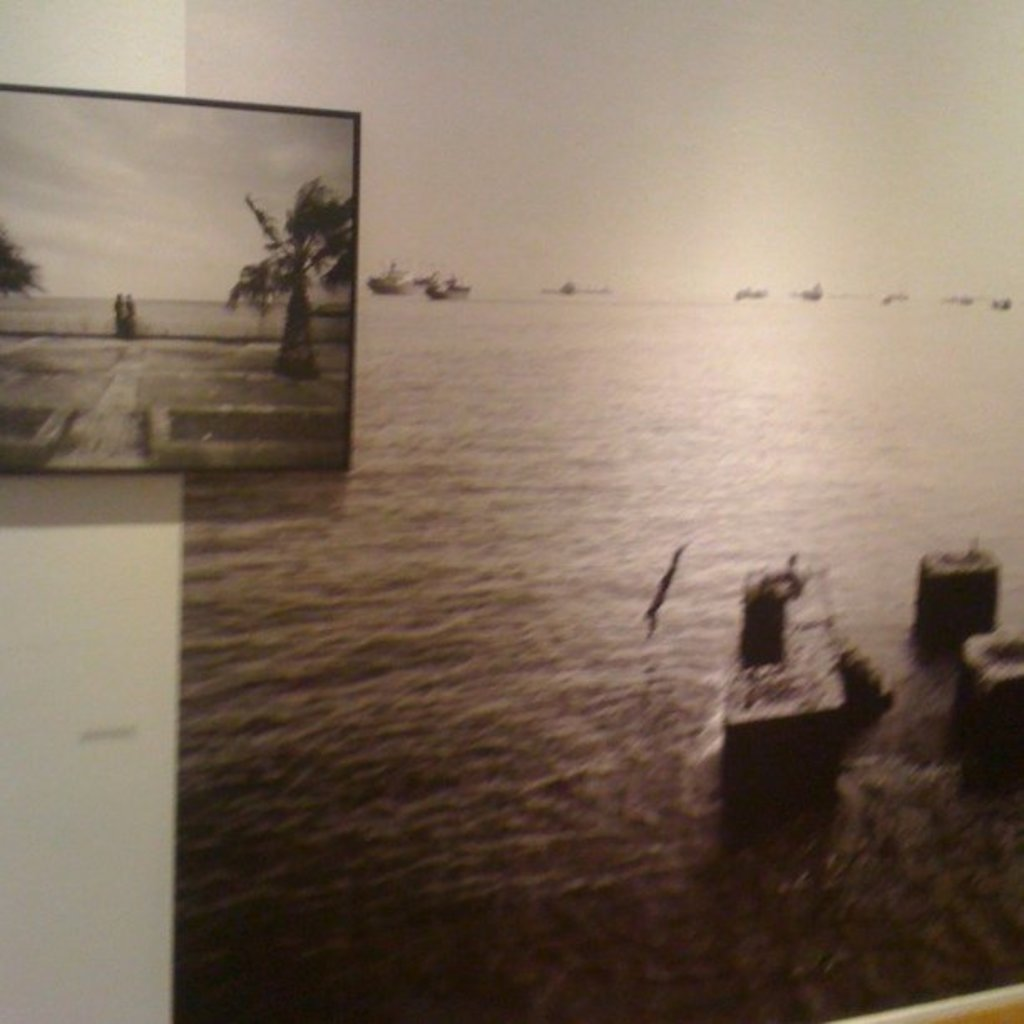Tree: (222, 175, 356, 383), (0, 230, 46, 304)
